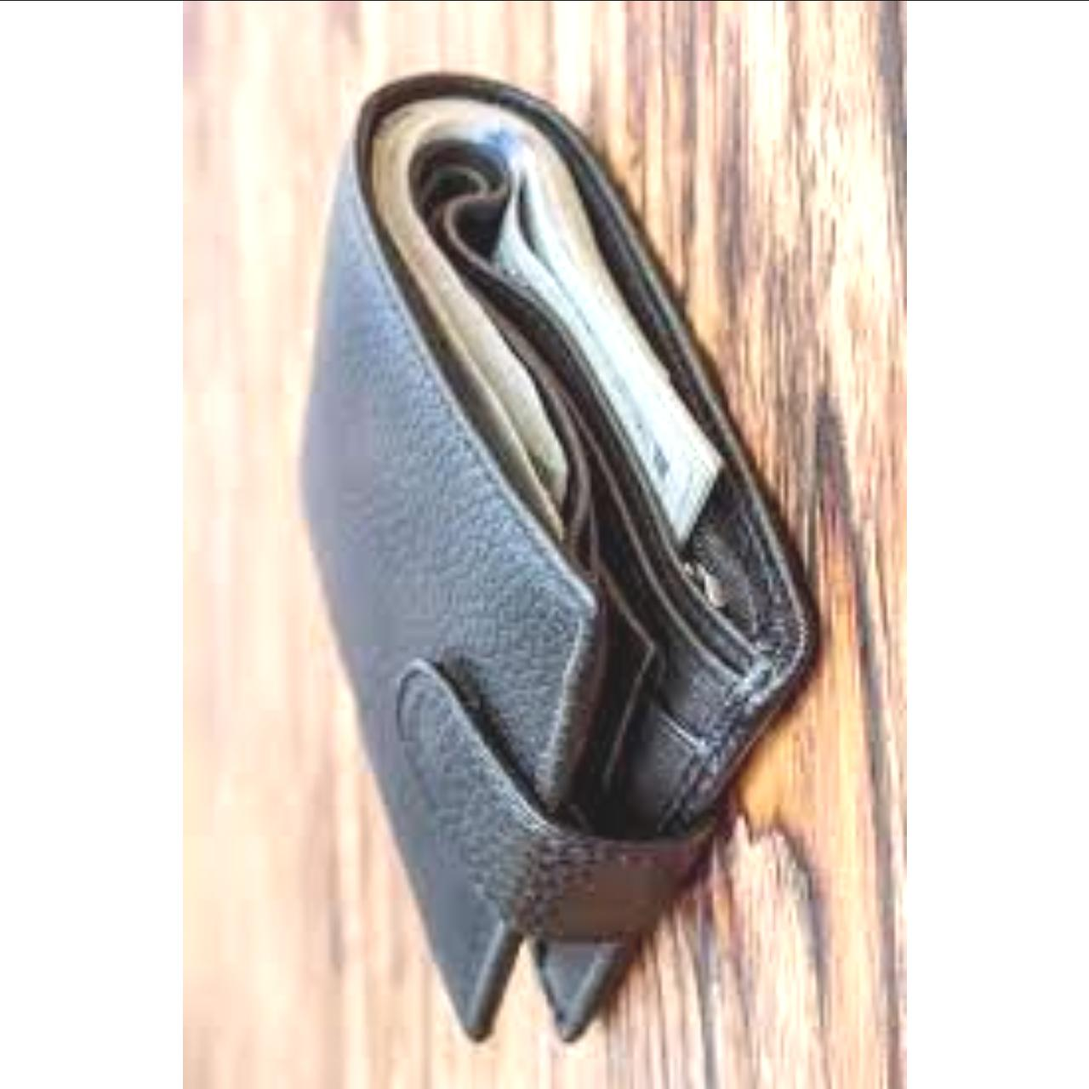wallet: (238, 10, 851, 1043)
